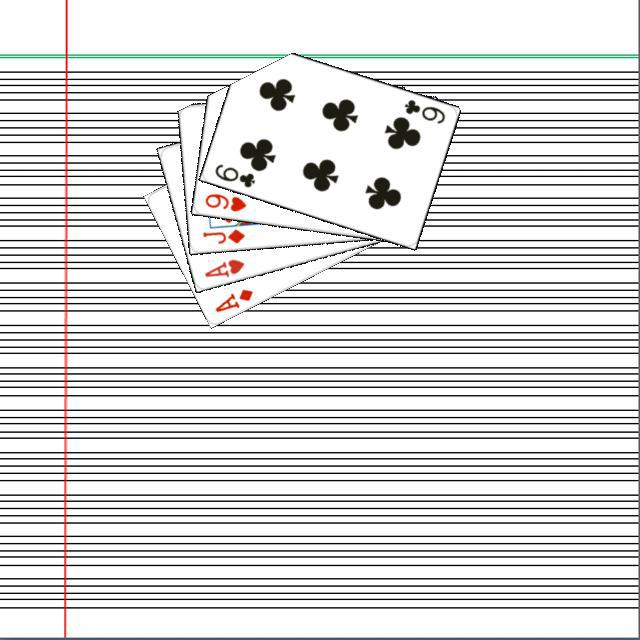6c: (399, 94, 447, 125), (210, 159, 257, 189)
9h: (200, 189, 248, 213)
Ad: (210, 284, 255, 314)
Ah: (200, 254, 246, 279)
Jd: (198, 224, 246, 245)
